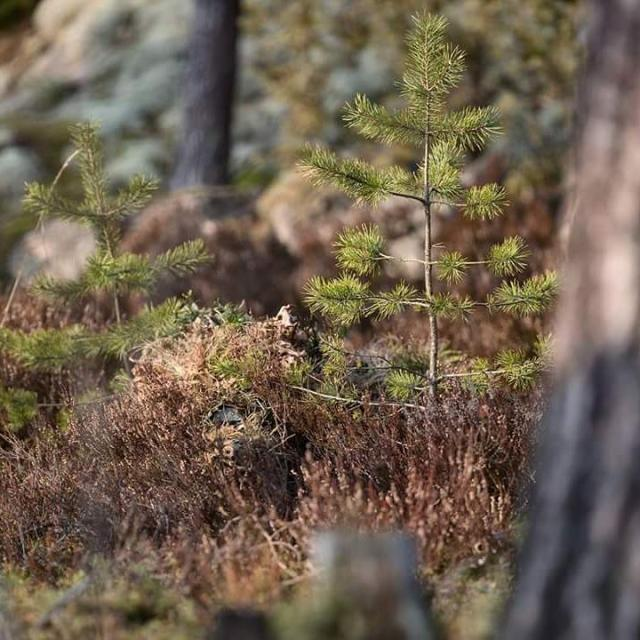camouflaged: (166, 309, 298, 496)
